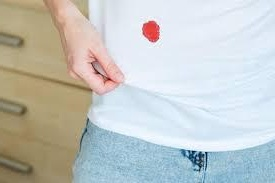blood: (140, 18, 162, 43)
